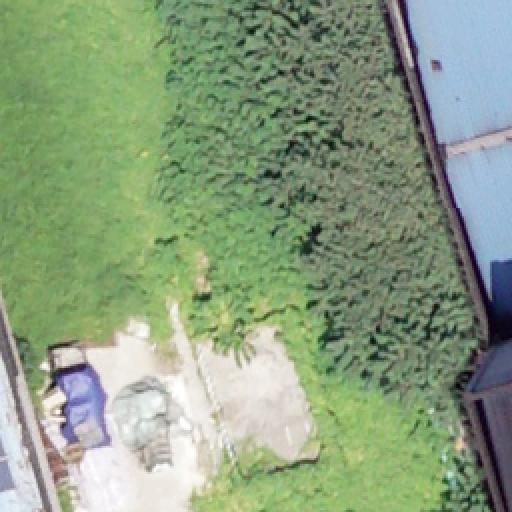solar-panel: (0, 428, 16, 492)
